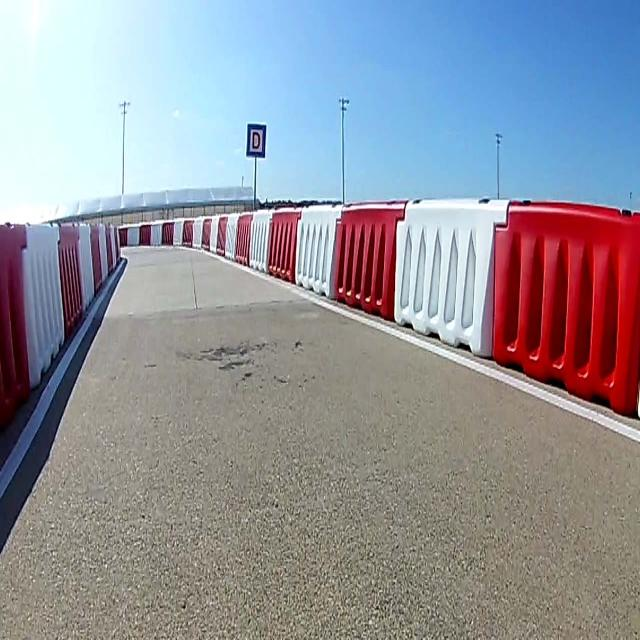durak: (248, 123, 266, 157)
